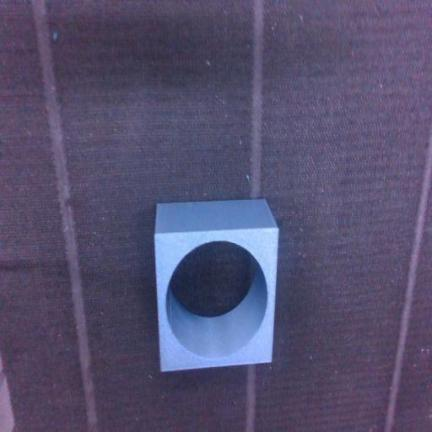hole: (169, 241, 256, 318)
